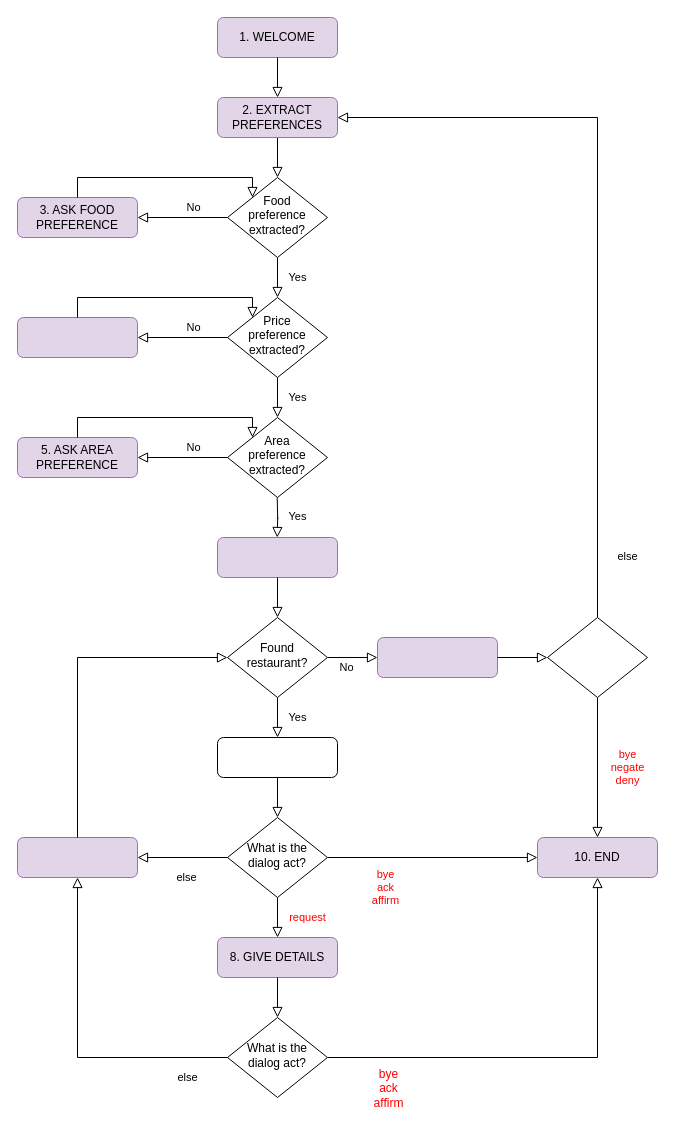
Image size: 675x1127. Some labels were removed from this diagram. The shapes that lost their labels are listed below. From the top down, each one's centre as x and y in pixels, then its label:
At point 77,337: "4. ASK PRICE PREFERENCE".
At point 277,557: "6. SEARCH FOR RESTAURANT".
At point 437,657: "7. NO MORE RECOMMENDATIONS".
At point 597,657: "User wants to search for something else?".
At point 277,757: "Print recommended restaurant".
At point 77,857: "9. SEARCH FOR MORE".
